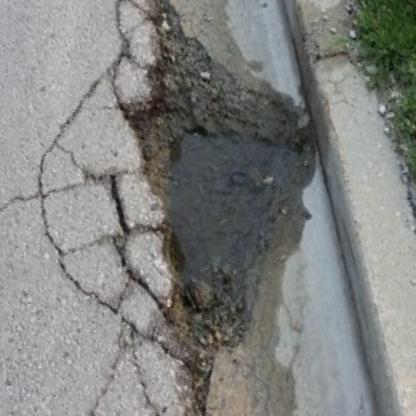pothole: (97, 21, 355, 352)
